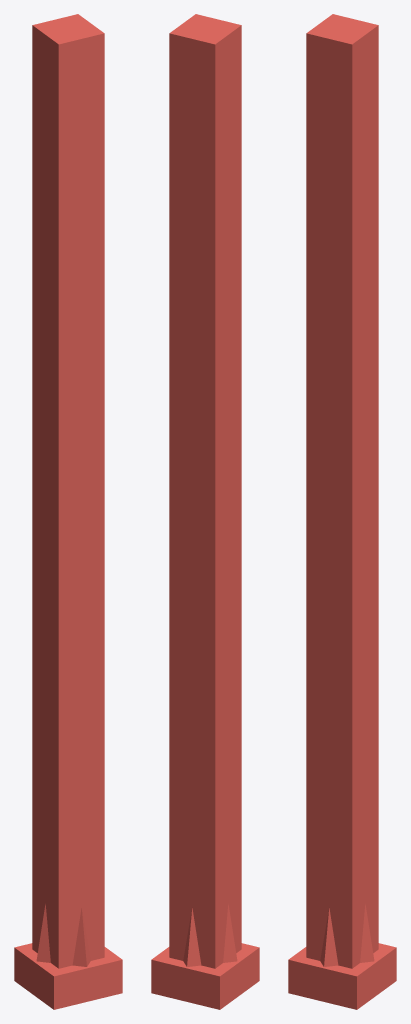
The model's file is hazard_stake_red_02.glb.
The picture shows the model from 3 angles, left to right: view 1: azimuth 30°, elevation 25°; view 2: azimuth 150°, elevation 25°; view 3: azimuth 330°, elevation 25°; orthographic projection.
Parts seen in each view (by area): view 1: Hazard_stake_red_02; view 2: Hazard_stake_red_02; view 3: Hazard_stake_red_02.
Part boxes in pixels (<box>): Hazard_stake_red_02: <box>14,14,122,1009</box>; Hazard_stake_red_02: <box>151,14,259,1009</box>; Hazard_stake_red_02: <box>288,14,396,1009</box>.
Size of the model in its own units: 0.075 by 1 by 0.075.
